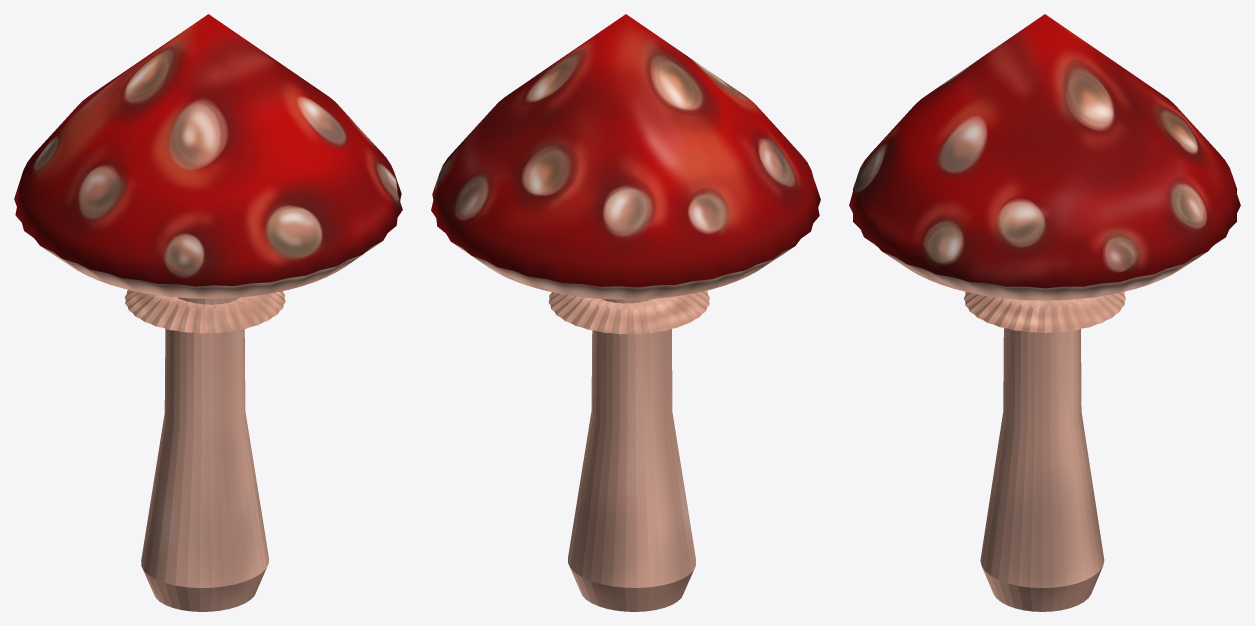
File: Red_Mushroom.fbx
3 renders of one model, left to right at view 1: azimuth 30°, elevation 25°; view 2: azimuth 150°, elevation 25°; view 3: azimuth 270°, elevation 25°, orthographic.
Parts seen in each view (by area): view 1: Mushroom_Red_Cap, Mushroom_Red_Stem, Ring; view 2: Mushroom_Red_Cap, Mushroom_Red_Stem, Ring; view 3: Mushroom_Red_Cap, Mushroom_Red_Stem, Ring.
Boxes of the visible parts, box(x1,y1,x2,y2) form: Mushroom_Red_Cap: box(14, 14, 402, 298); Mushroom_Red_Stem: box(141, 297, 268, 611); Ring: box(124, 290, 285, 333); Mushroom_Red_Cap: box(431, 14, 820, 299); Mushroom_Red_Stem: box(568, 298, 695, 611); Ring: box(548, 290, 709, 334); Mushroom_Red_Cap: box(849, 14, 1240, 300); Mushroom_Red_Stem: box(980, 328, 1104, 611); Ring: box(963, 291, 1125, 332).
Bounding box in the file's own units: 48.44 × 78.83 × 48.44.
